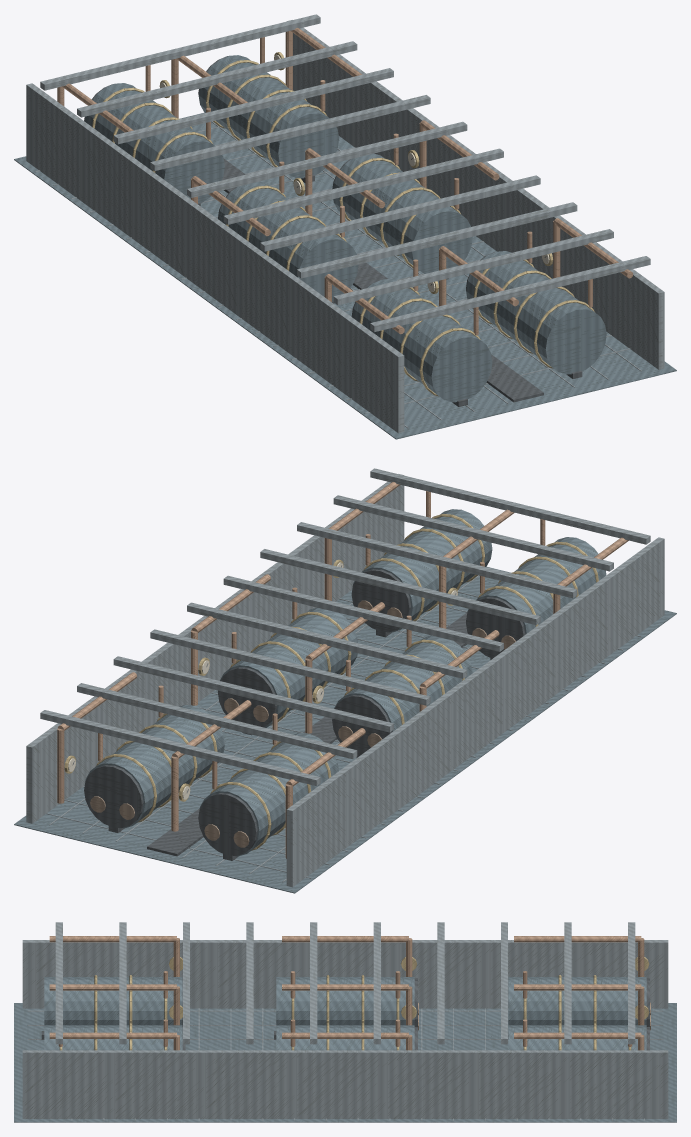
File: machine.gltf
3 views of the same model, one above another, from view 1: azimuth 30°, elevation 25°; view 2: azimuth 150°, elevation 25°; view 3: azimuth 270°, elevation 25° (orthographic). The views are drawn at different scales.
Parts seen in each view (by area): view 1: steel, steeldark, copper, brass, black; view 2: steel, steeldark, black, copper, brass, bronze; view 3: steel, steeldark, copper, brass, black.
Part boxes in pixels (box(x1,y1,x2,y2)): steel: box(26, 14, 664, 433); steeldark: box(14, 55, 676, 439); copper: box(57, 28, 633, 335); brass: box(92, 52, 594, 396); black: box(84, 56, 582, 406); steel: box(26, 468, 664, 887); steeldark: box(14, 509, 676, 893); black: box(72, 565, 525, 860); copper: box(57, 482, 628, 858); brass: box(64, 514, 598, 850); bronze: box(90, 600, 515, 847); steel: box(22, 922, 668, 1120); steeldark: box(14, 977, 676, 1122); copper: box(49, 936, 644, 1050); brass: box(59, 957, 649, 1050); black: box(41, 978, 649, 1050).
Bounding box in the file's own units: 8.85 × 2.9 × 20.85.
Materials: 7 (7 with a texture image).
